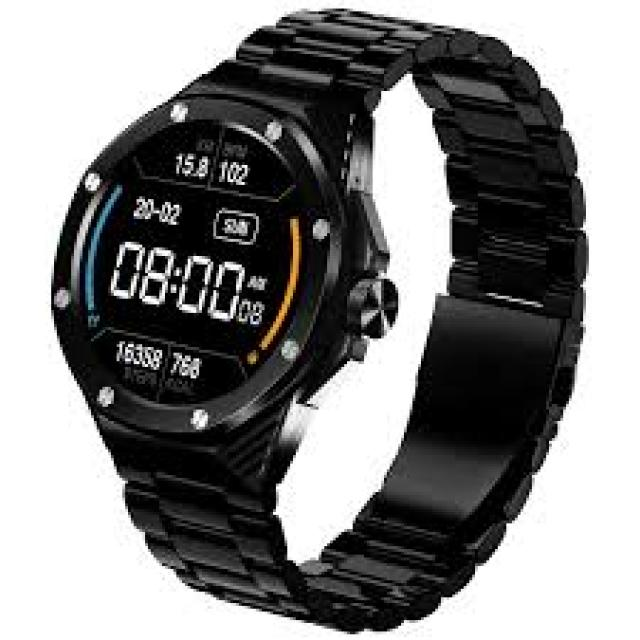objects: (53, 9, 583, 633)
